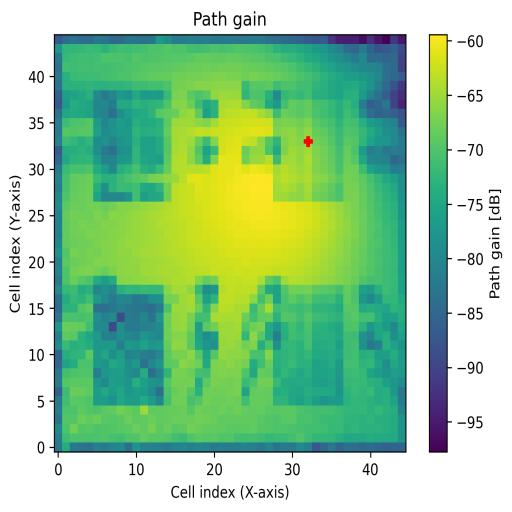Concrete: (274, 89, 342, 203)
Glass: (94, 90, 171, 202)
Metal: (273, 284, 344, 404)
Wood: (93, 285, 164, 405)
